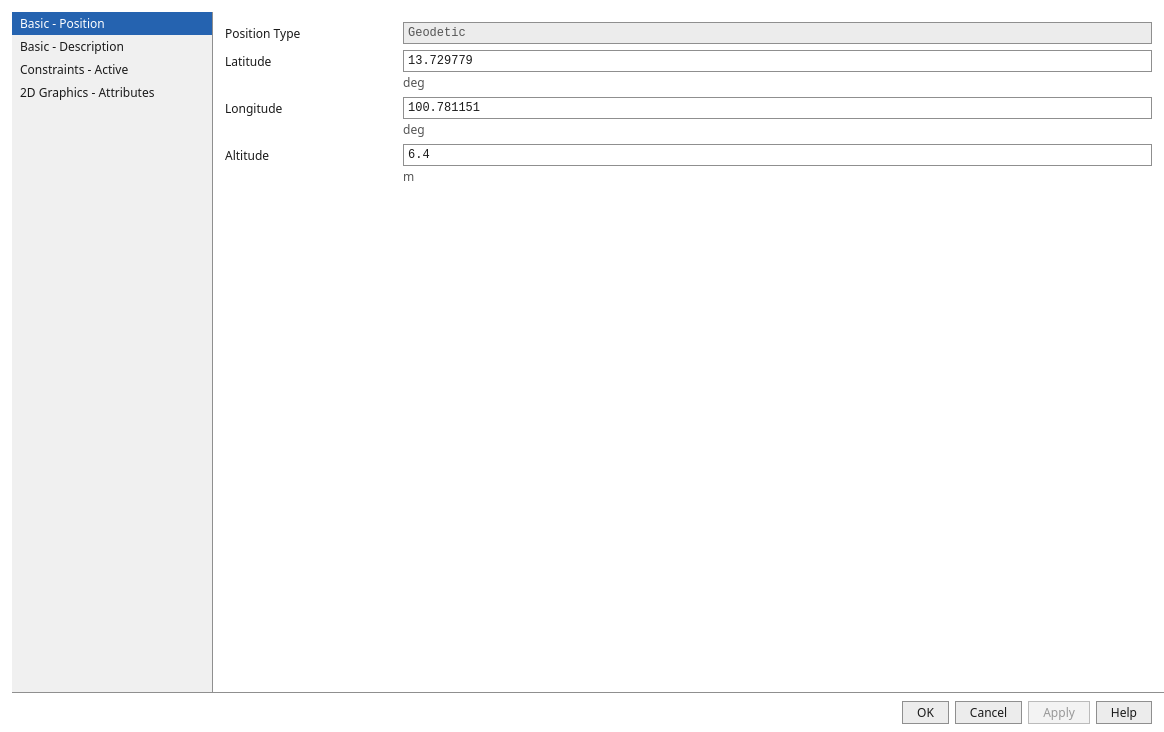
a server 422 › marks the field invalid and shows the server's own text
Click the tab "Constraints - Active" at (112, 70), box [12, 58, 212, 81]
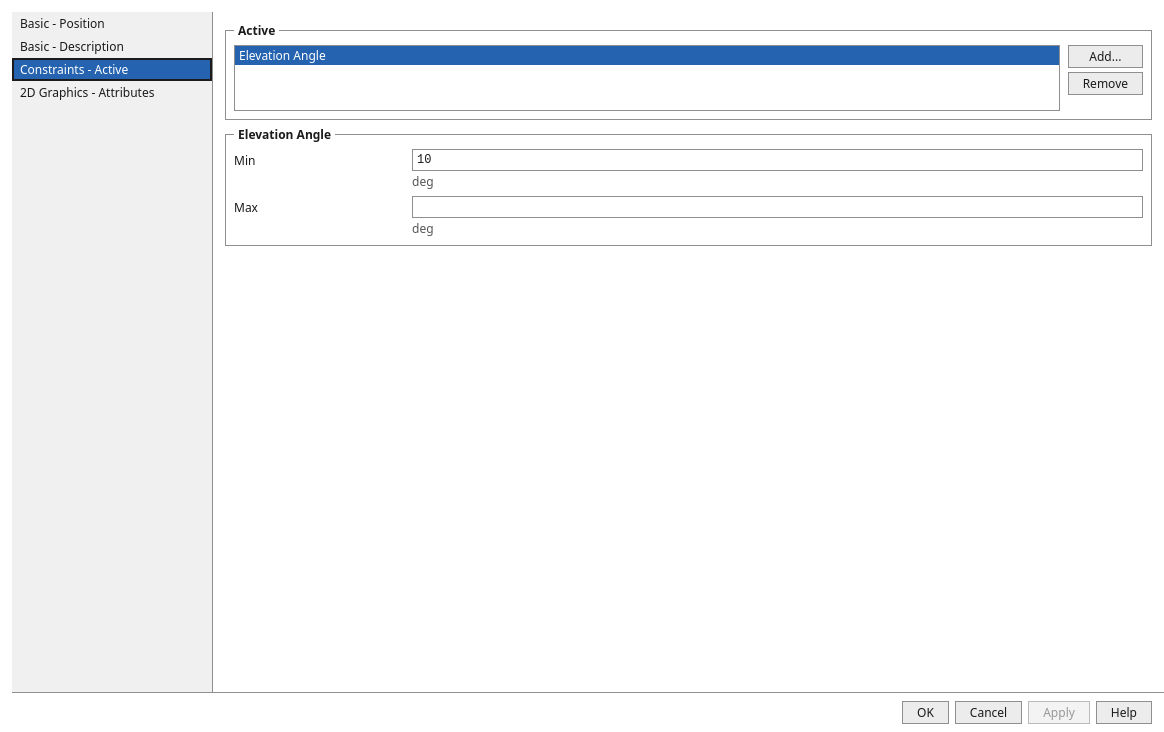
Replace the text in the field labelled "Min" with "15" at (778, 160), box [412, 149, 1143, 171]
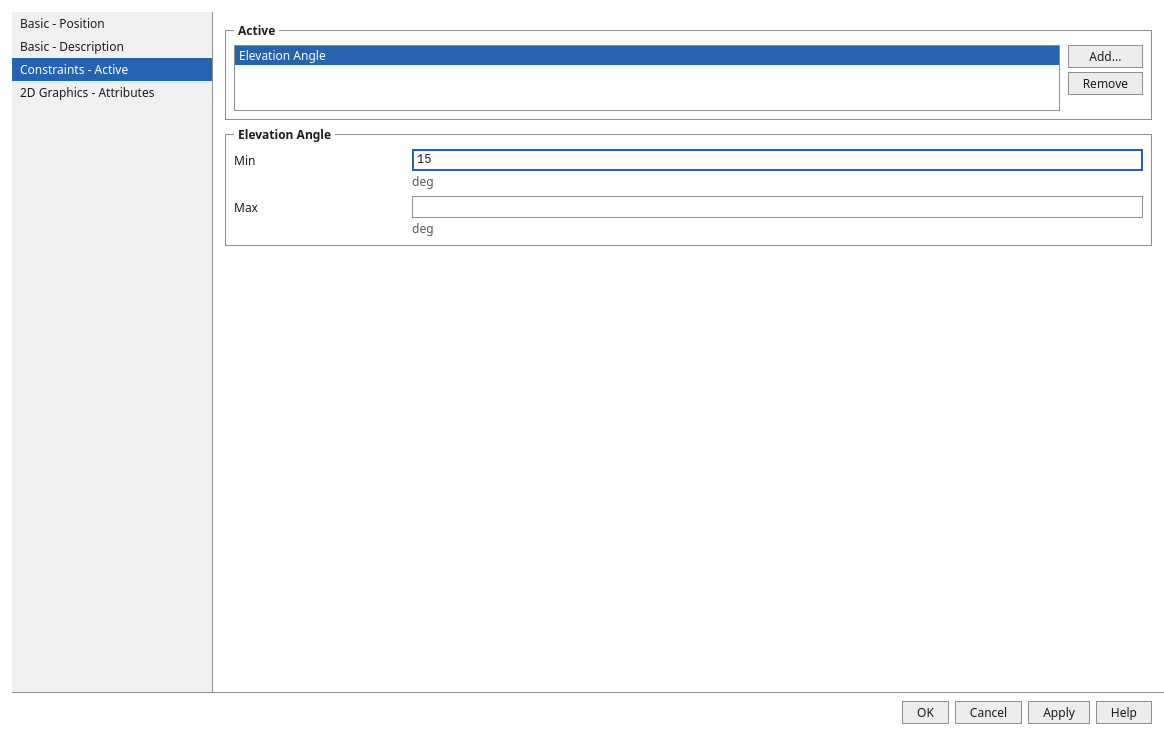
Click the button "Apply" at (1059, 712), box [1028, 701, 1090, 724]
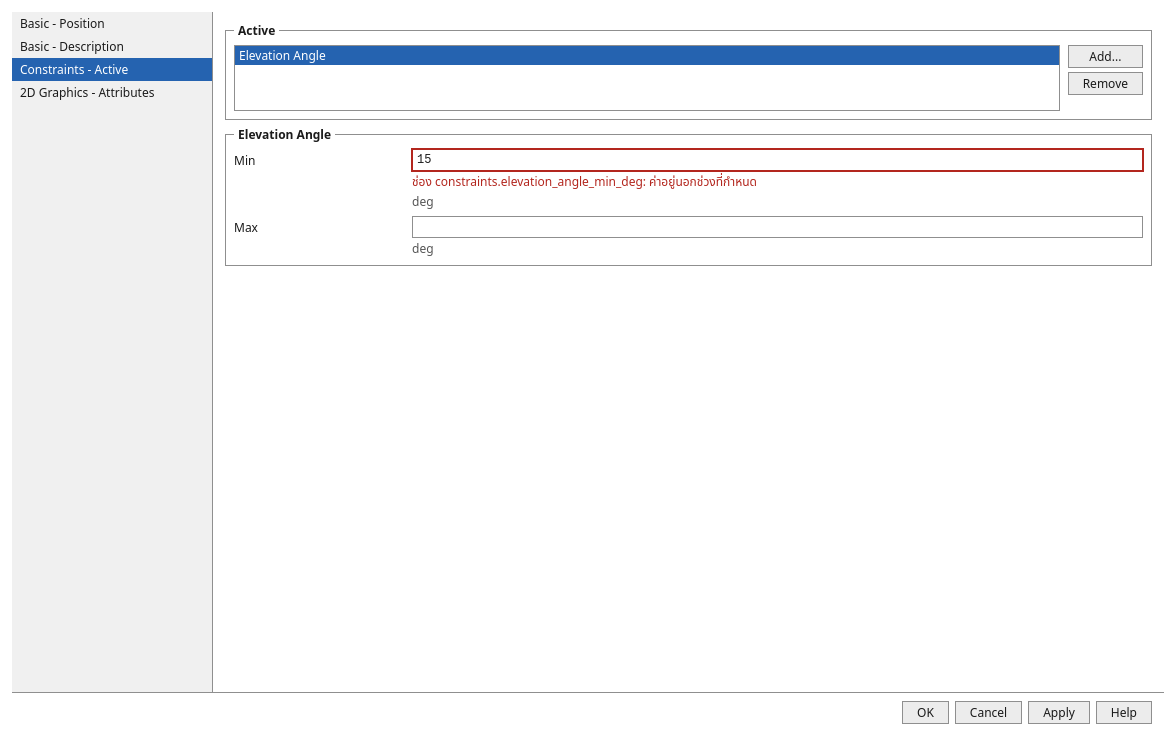
Check: the message "ช่อง constraints.elevation_angle_min_deg: ค่าอยู่นอกช่วงที่กำหนด" is shown, box [412, 173, 757, 190]
